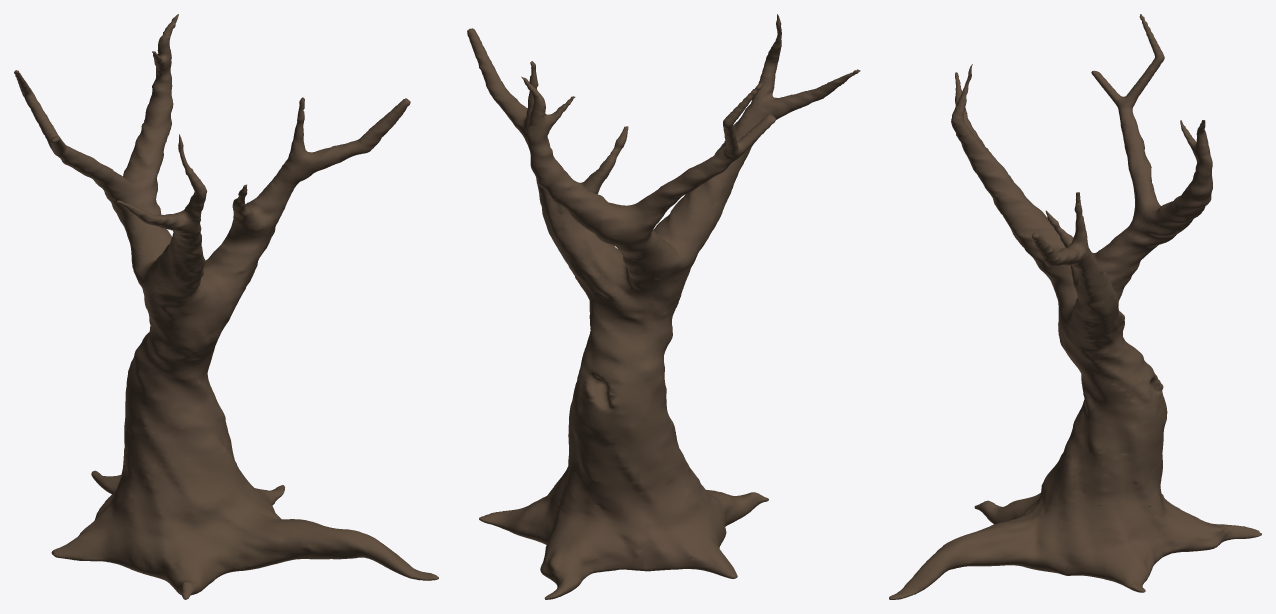
File: arbol3.fbx
The picture shows the model from 3 angles, left to right: view 1: azimuth 30°, elevation 25°; view 2: azimuth 150°, elevation 25°; view 3: azimuth 270°, elevation 25°; orthographic projection. The views are drawn at different scales.
Visible parts, largest first — view 1: tree_lp; view 2: tree_lp; view 3: tree_lp.
Part boxes in pixels (x1,y1,x2,y2): tree_lp: [14, 14, 438, 599]; tree_lp: [467, 14, 860, 599]; tree_lp: [889, 14, 1261, 599].
Bounding box in the file's own units: 385 × 543 × 390.
